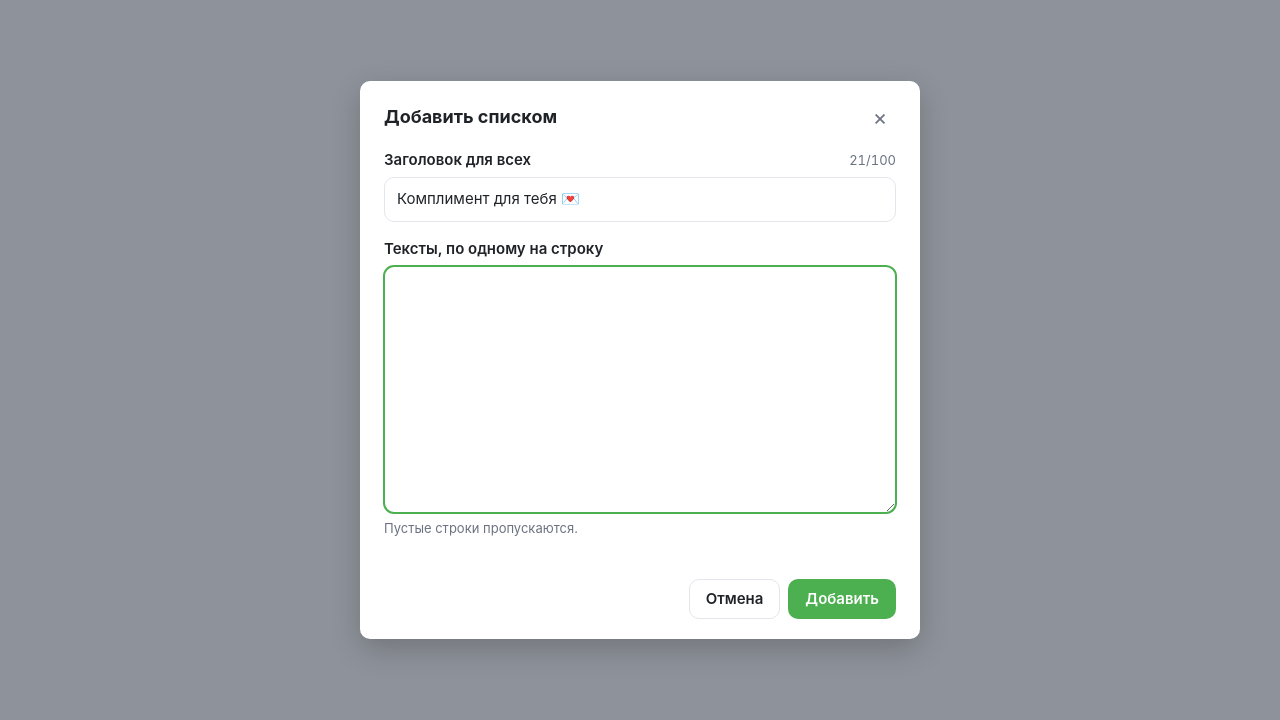
it: BulkImport › ошибка показывается только после попытки отправить
Click the button "Добавить". click: click(842, 599)
box: x1=788 y1=579 x2=896 y2=619
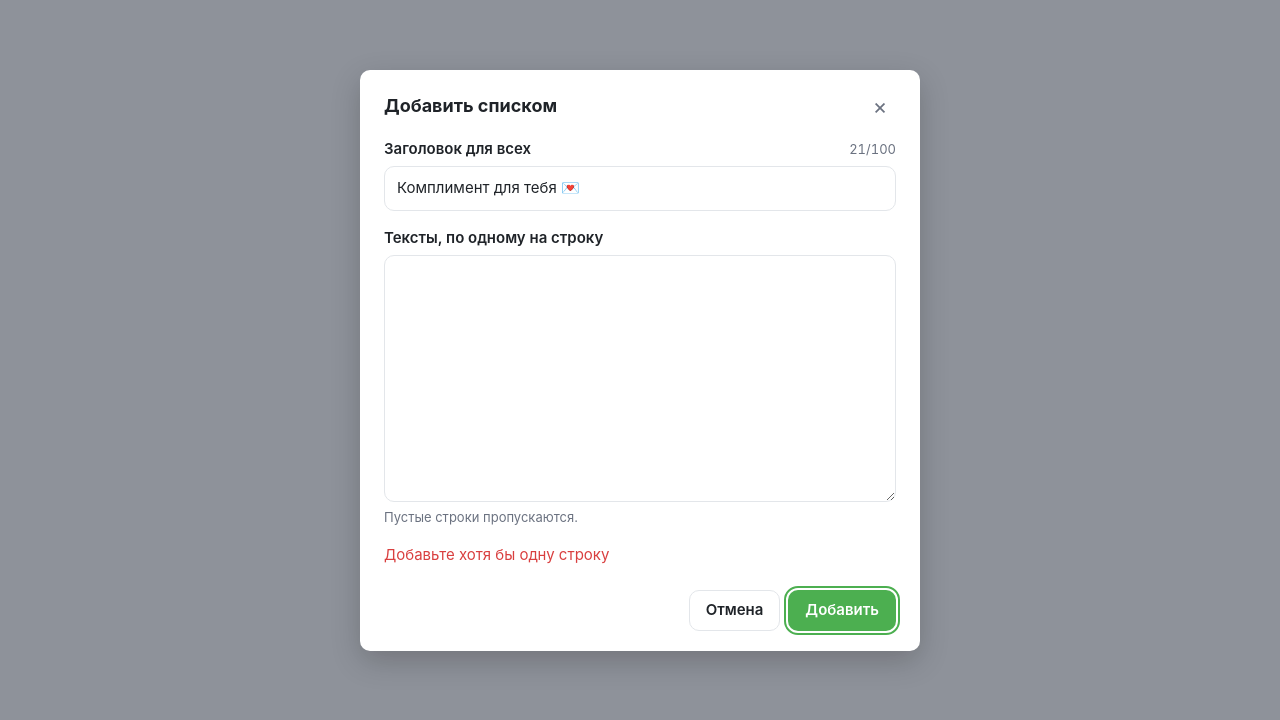
Now the message reads "Добавьте хотя бы одну строку", box x1=384 y1=544 x2=609 y2=564
